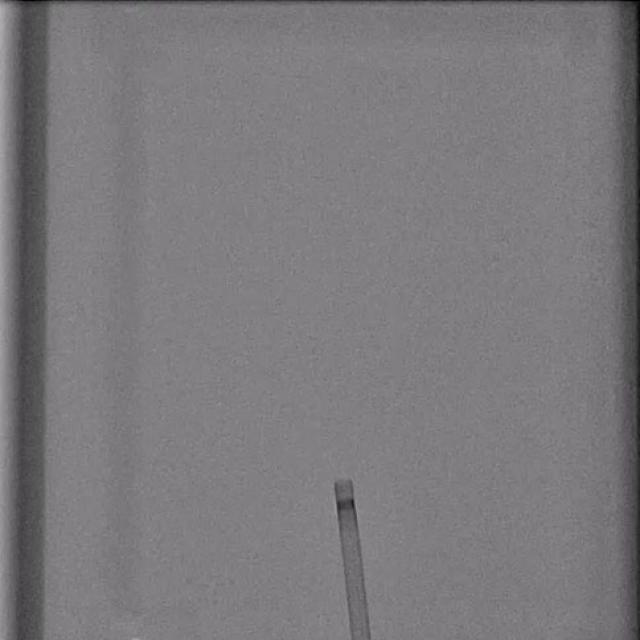entry: (350, 633, 370, 640)
marker: (336, 498, 354, 512)
tip: (335, 479, 353, 487)
